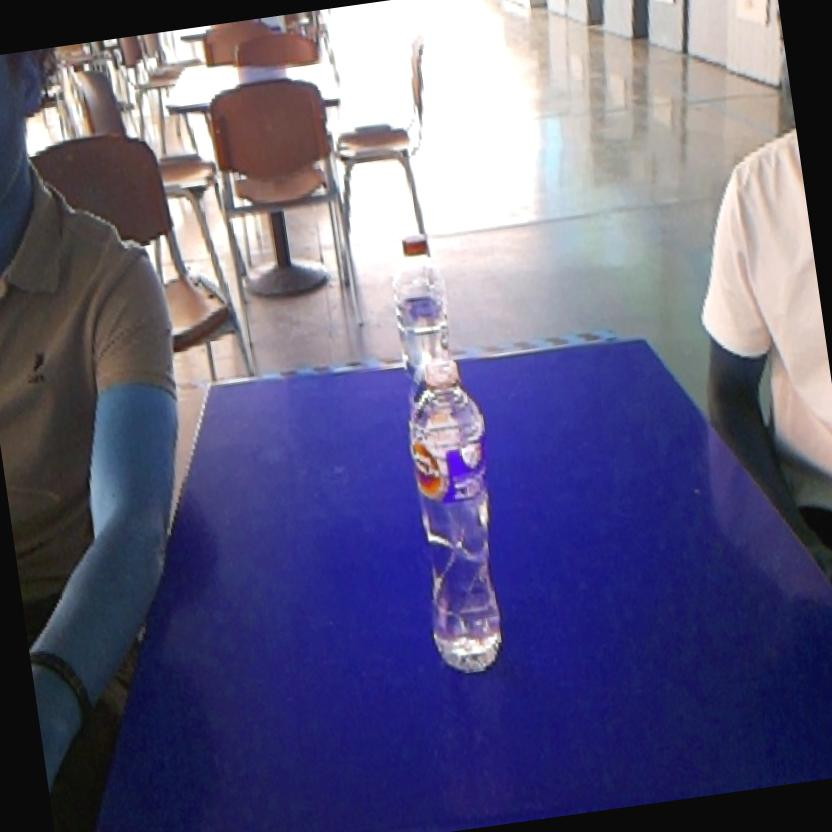no_cap: (384, 336, 524, 686)
no_label: (372, 219, 468, 356)
